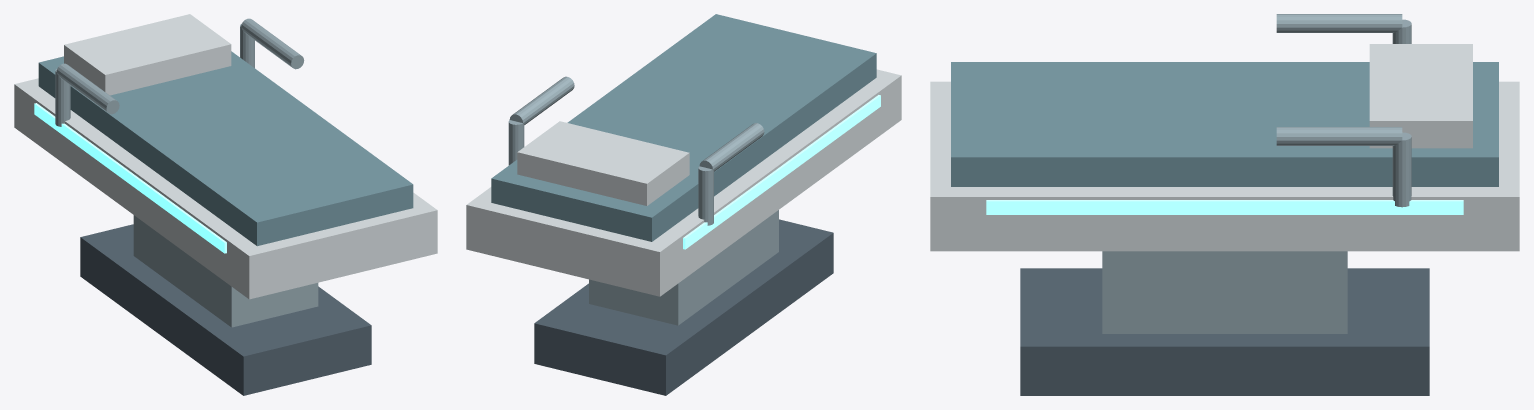
Rendered from biobed.glb.
3 renders of one model, left to right at view 1: azimuth 30°, elevation 25°; view 2: azimuth 150°, elevation 25°; view 3: azimuth 270°, elevation 25°, orthographic. The views are drawn at different scales.
Parts seen in each view (by area): view 1: pad_3, ivory_2, dark_0, ivory_4, steel_1, blue_5, steel_7, steel_10, steel_6, steel_9; view 2: pad_3, ivory_2, dark_0, ivory_4, steel_1, blue_5, steel_7, steel_10, steel_6, steel_9; view 3: pad_3, dark_0, ivory_2, steel_1, ivory_4, blue_8, steel_7, steel_10, steel_9.
Boxes of the visible parts, x1=… form: pad_3: x1=38, y1=51, x2=413, y2=246; ivory_2: x1=14, y1=78, x2=437, y2=299; dark_0: x1=80, y1=224, x2=371, y2=395; ivory_4: x1=64, y1=14, x2=231, y2=95; steel_1: x1=133, y1=215, x2=318, y2=327; blue_5: x1=34, y1=103, x2=226, y2=253; steel_7: x1=56, y1=63, x2=119, y2=114; steel_10: x1=241, y1=18, x2=304, y2=69; steel_6: x1=55, y1=69, x2=70, y2=126; steel_9: x1=240, y1=23, x2=254, y2=67; pad_3: x1=491, y1=14, x2=876, y2=241; ivory_2: x1=466, y1=69, x2=901, y2=296; dark_0: x1=534, y1=219, x2=833, y2=395; ivory_4: x1=517, y1=121, x2=689, y2=205; steel_1: x1=589, y1=210, x2=778, y2=325; blue_5: x1=683, y1=95, x2=880, y2=249; steel_7: x1=699, y1=123, x2=764, y2=171; steel_10: x1=509, y1=76, x2=574, y2=124; steel_6: x1=698, y1=166, x2=713, y2=225; steel_9: x1=508, y1=120, x2=524, y2=165; pad_3: x1=951, y1=62, x2=1498, y2=186; dark_0: x1=1020, y1=268, x2=1429, y2=395; ivory_2: x1=930, y1=81, x2=1519, y2=251; steel_1: x1=1102, y1=251, x2=1347, y2=333; ivory_4: x1=1369, y1=44, x2=1472, y2=148; blue_8: x1=986, y1=200, x2=1463, y2=214; steel_7: x1=1276, y1=14, x2=1402, y2=32; steel_10: x1=1276, y1=127, x2=1402, y2=145; steel_9: x1=1392, y1=132, x2=1411, y2=207.
Bounding box in the file's own units: 1.05 × 1.15 × 2.16.
